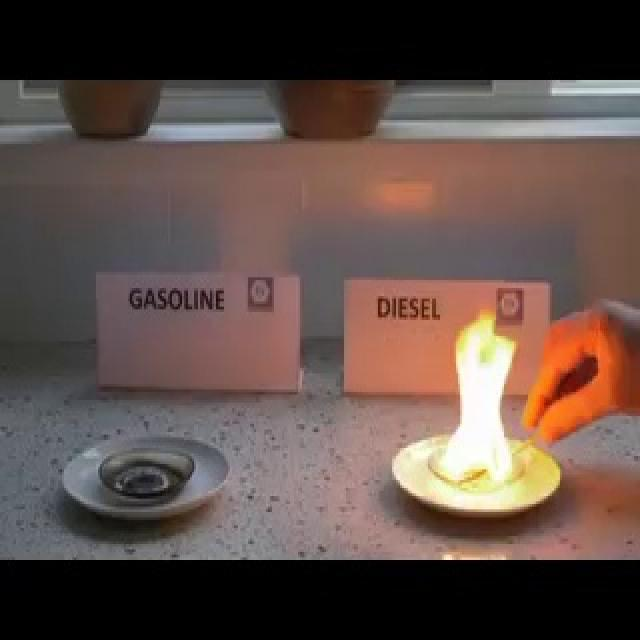fire: (434, 300, 526, 488)
